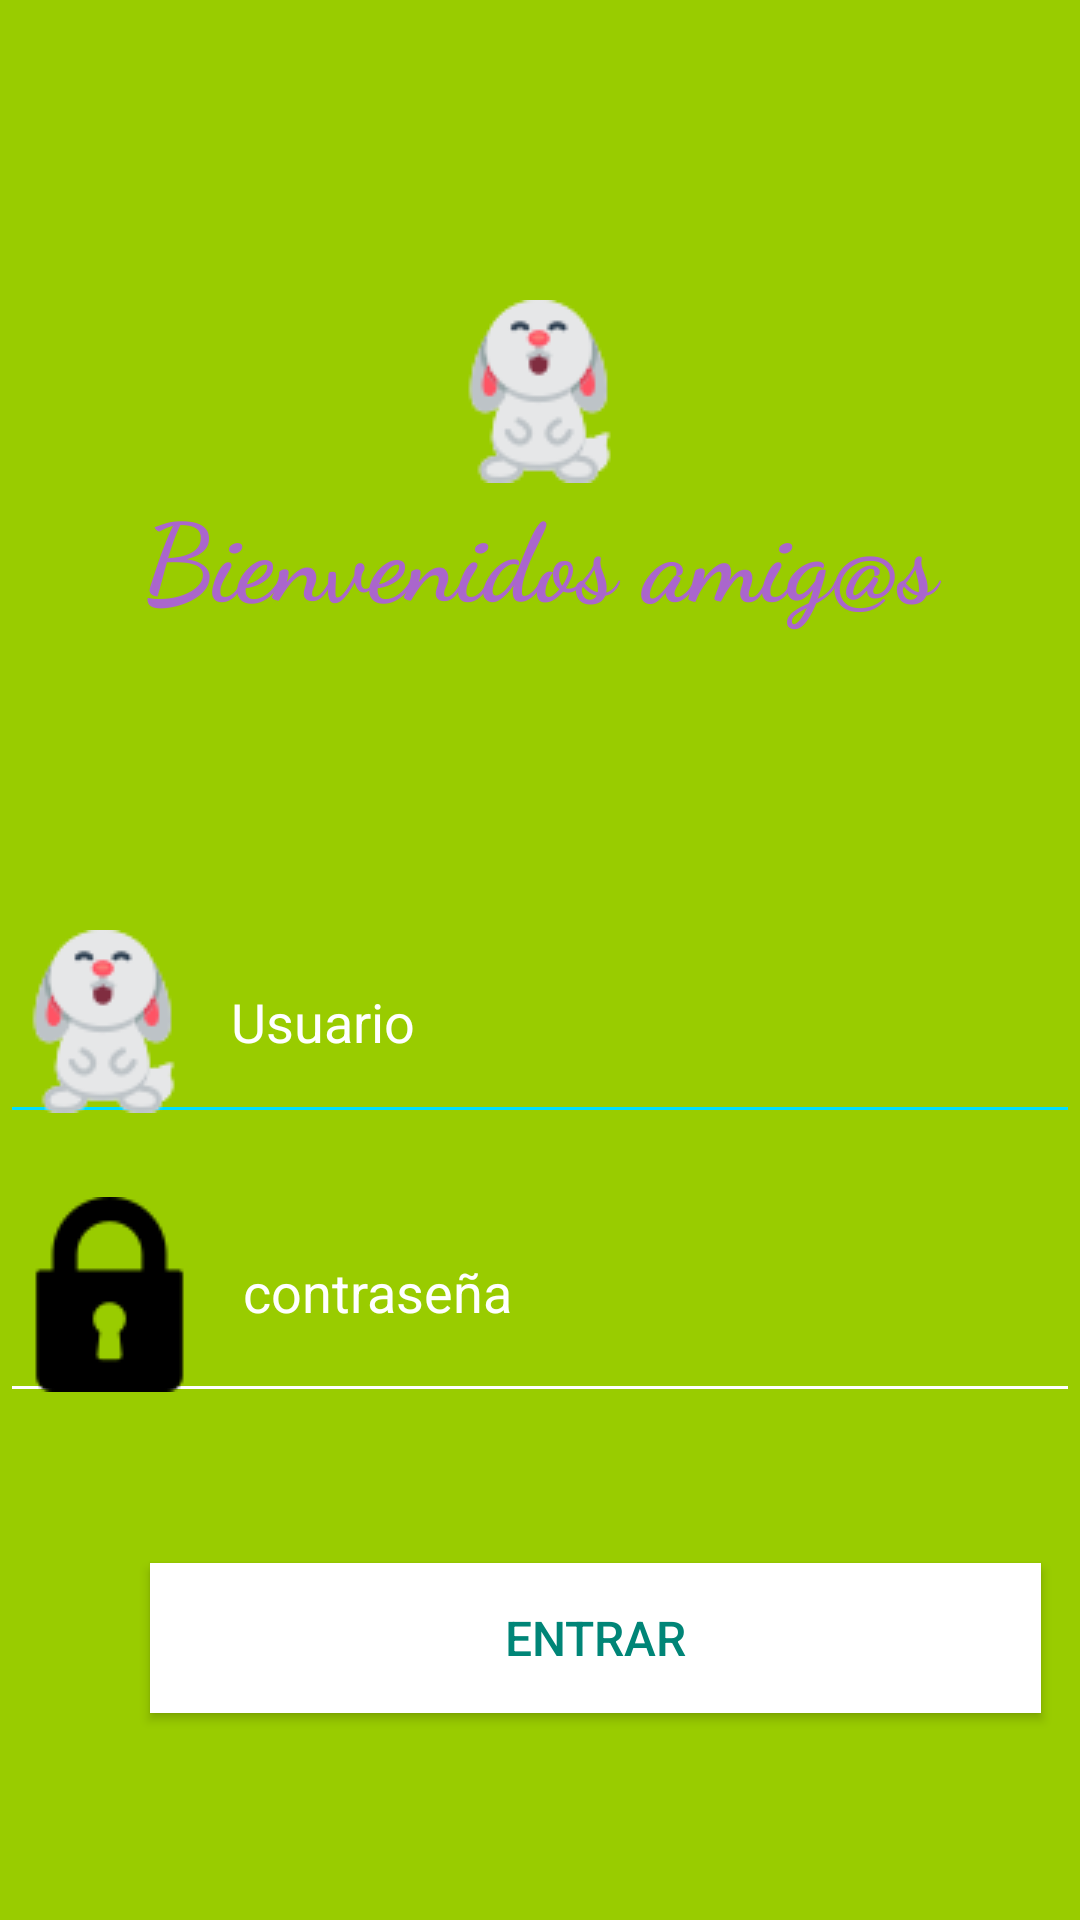

Where to tap for icons on this 1080w x 1920h app screen, as (x=x, y=y):
conejito: (x=539, y=391)
